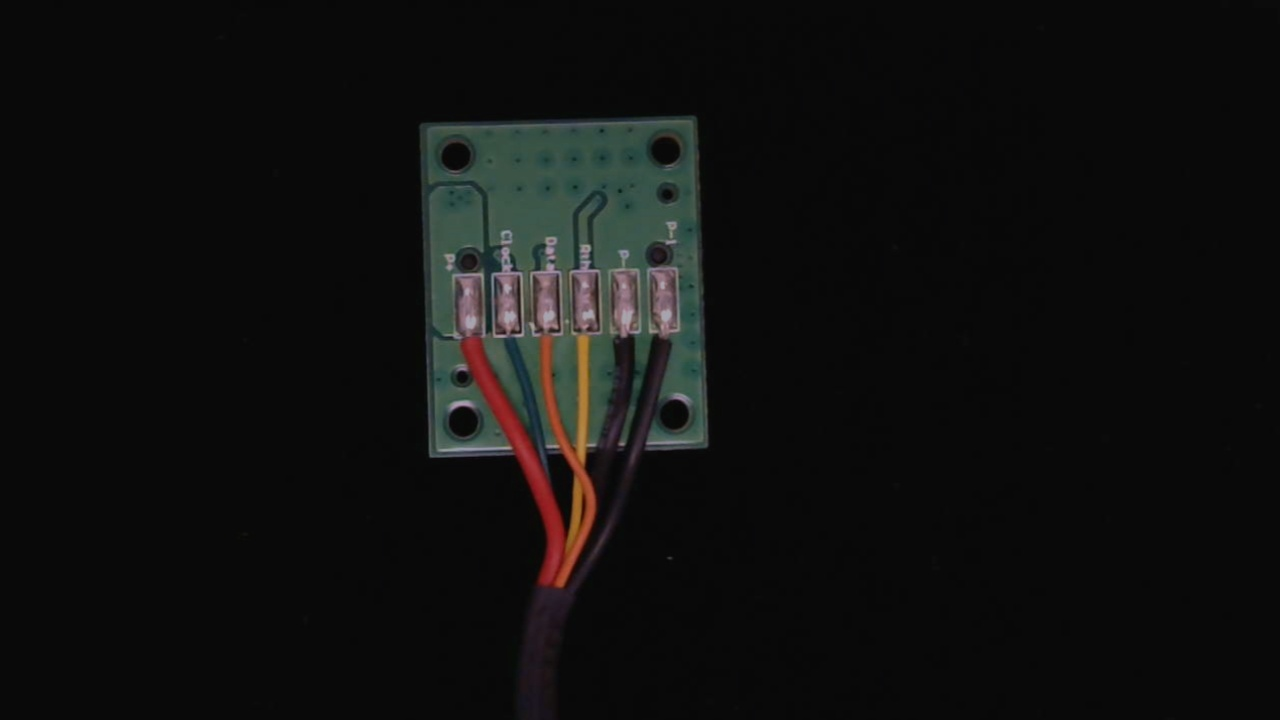Black: (611, 315, 640, 371)
Black1: (650, 315, 678, 378)
Green: (494, 314, 524, 376)
Orange: (532, 315, 561, 382)
Red: (454, 315, 486, 372)
Yellow: (572, 314, 600, 379)
